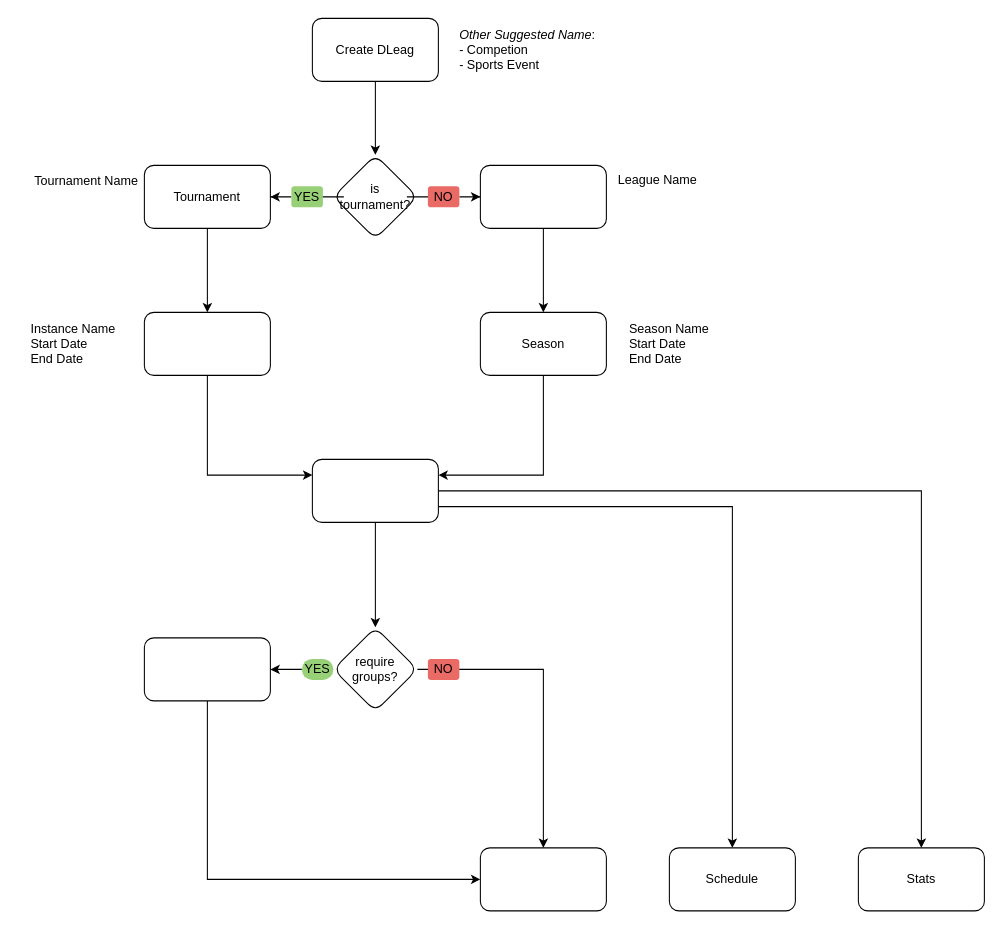
The diagram is 1003 pixels wide and 929 high, and some of its shapes have lost their labels. The box of each missing label's shape, as (x1, y1, x2, y2) in pixels:
Division: (311, 458, 438, 522)
Groups: (143, 637, 270, 701)
League: (479, 164, 606, 228)
Teams: (479, 847, 606, 911)
Tournament Settings: (143, 311, 270, 375)
